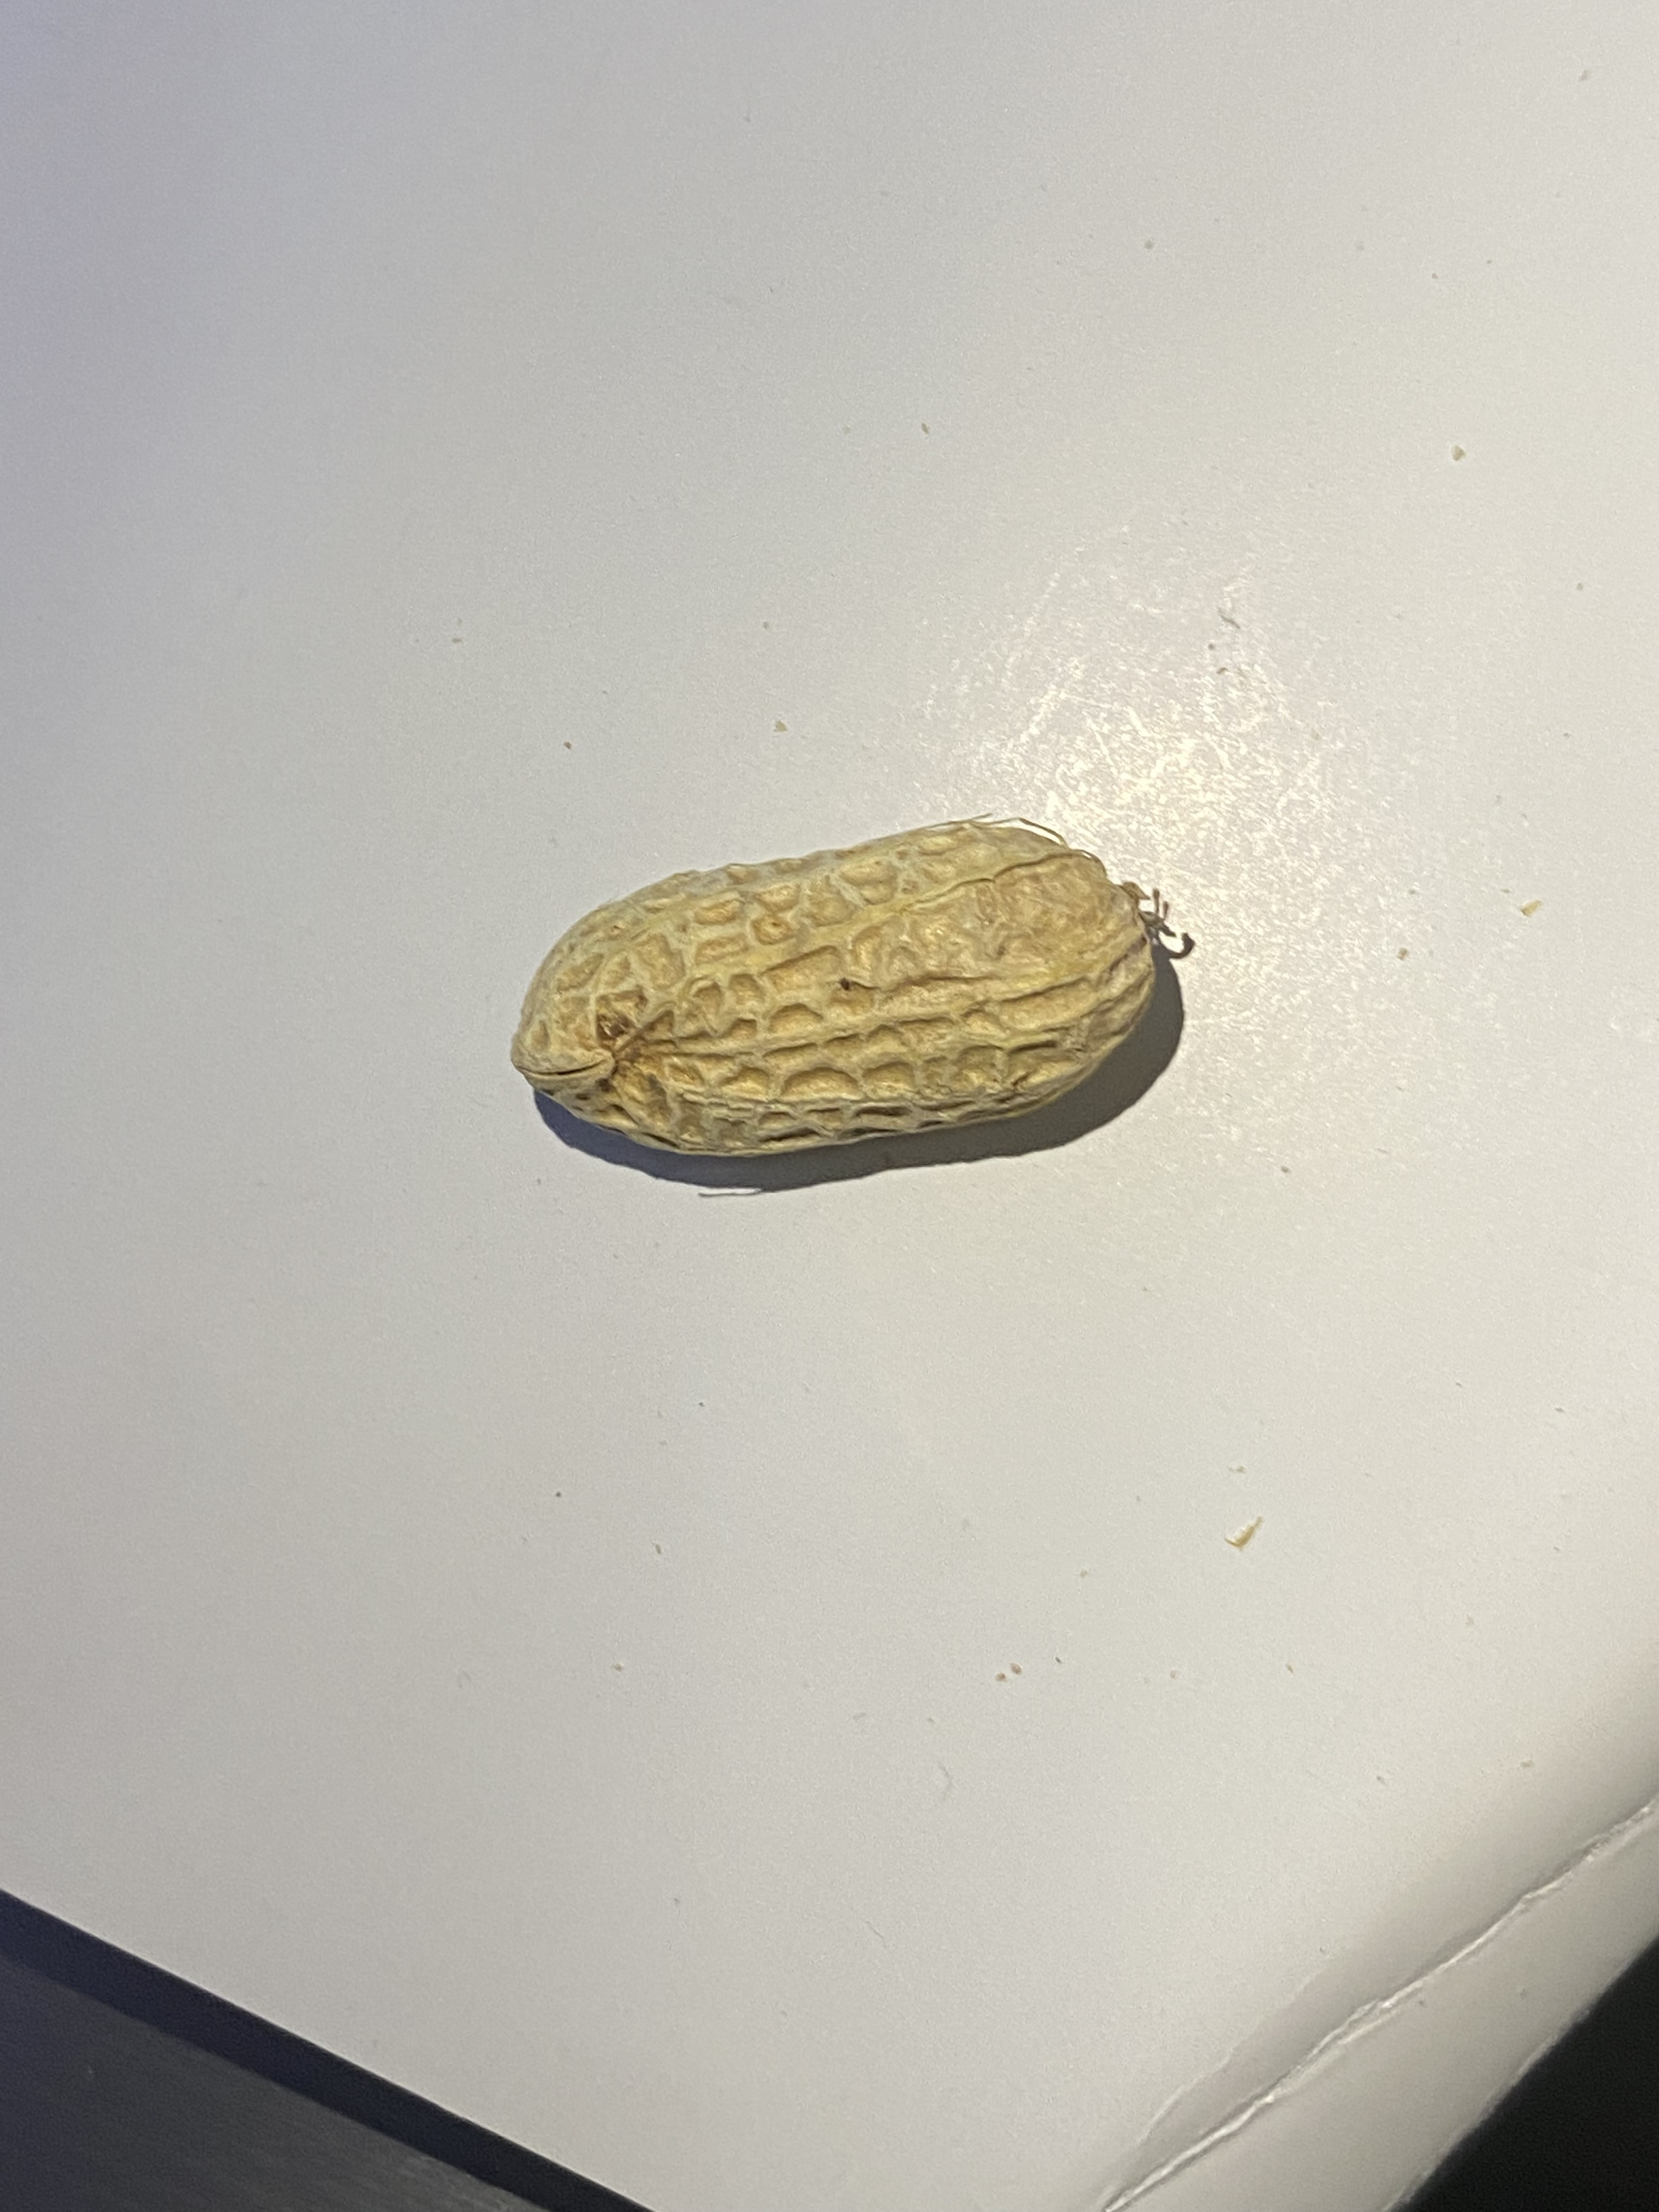kacang2: (477, 773, 1180, 1191)
